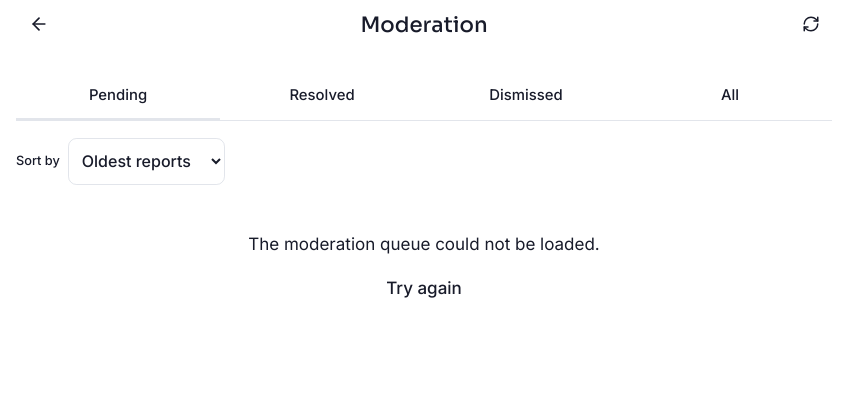
moderation workflow › shows queue failure and supports retry instead of claiming all clear
The image size is (849, 398).
Expected: the message "The moderation queue could not be loaded. Try again" is shown, [248,234,600,312]
Expected: the text "No pending reports" is not shown
What coordinates should you click on to do the following:
click the button "Try again"
I would click on:
 (424, 289)
Its box is [386,266,462,312].
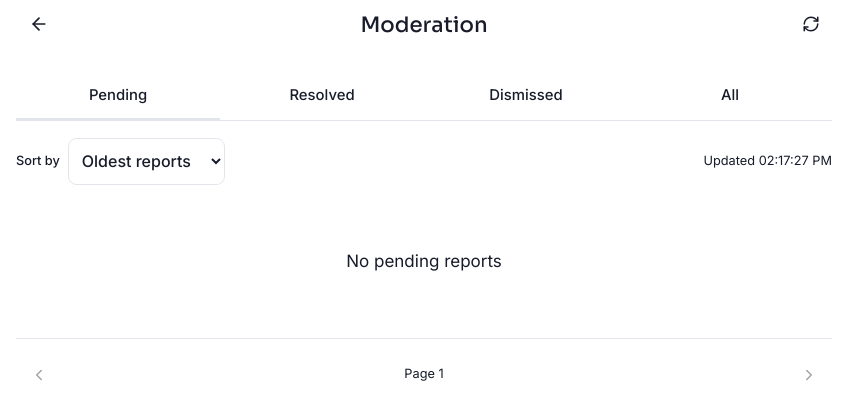
Expected: the text "No pending reports" is shown, [346,250,502,270]
